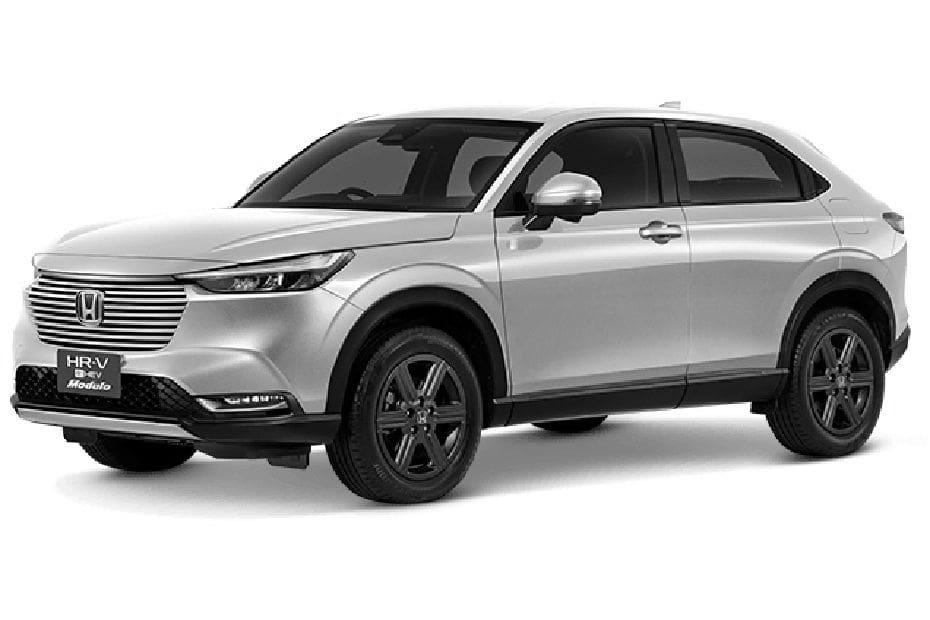Car hood: (26, 201, 464, 282)
Fender - -F-L-: (310, 204, 512, 422)
Fender - -R-L-: (813, 166, 896, 306)
Front bumper: (0, 283, 383, 454)
Headlight - -L-: (167, 243, 367, 302)
Passenger-s door - -F-L-: (506, 113, 690, 404)
Passenger-s door - -R-L-: (679, 112, 840, 407)
Rear bumper: (879, 230, 921, 388)
Rear light - -L-: (869, 194, 917, 252)
Side bumper - -L-: (482, 354, 799, 432)
Side mirror - -L-: (513, 163, 609, 243)
